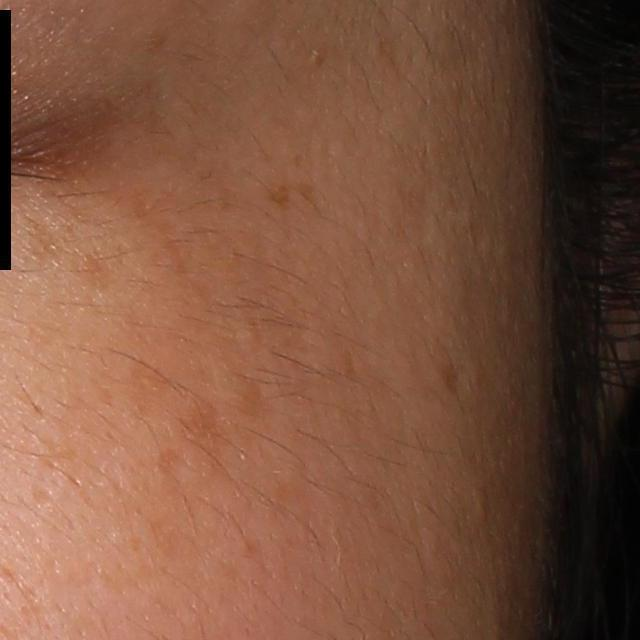melasma: (131, 358, 178, 422), (425, 337, 465, 396), (179, 395, 222, 447), (21, 216, 63, 266), (265, 182, 291, 209)
